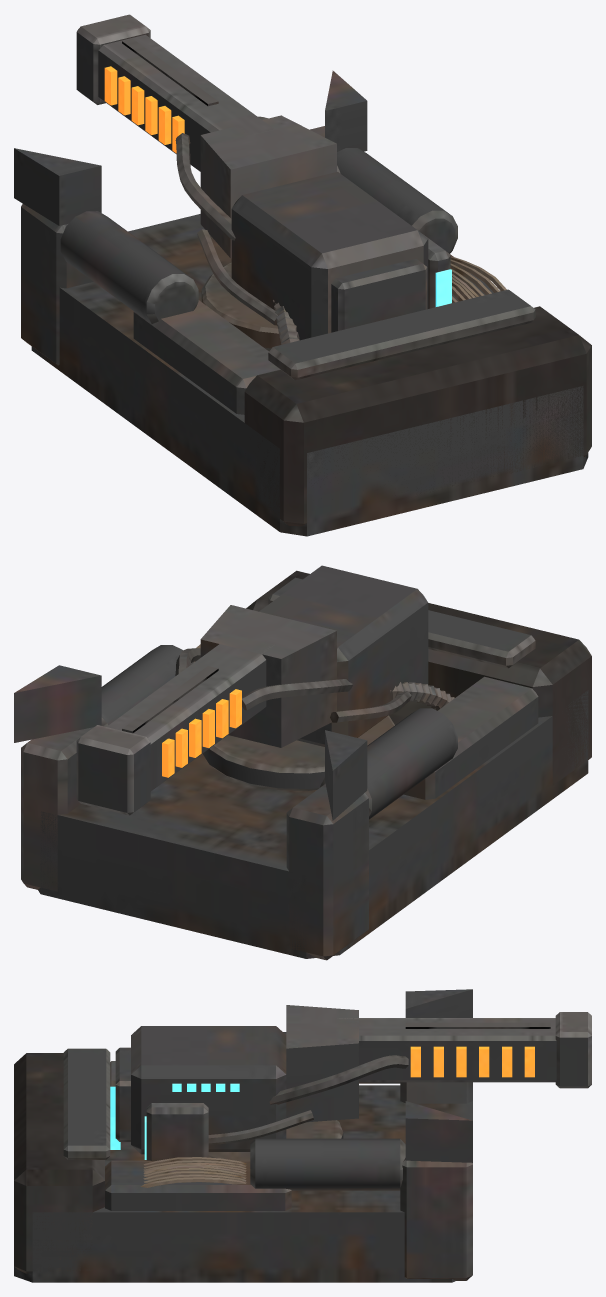
Rendered from railgun-turret.glb.
3 views of the same model, one above another, from view 1: azimuth 30°, elevation 25°; view 2: azimuth 150°, elevation 25°; view 3: azimuth 270°, elevation 25° (orthographic). The views are drawn at different scales.
Parts seen in each view (by area): view 1: body, anim_turret_head; view 2: body, anim_turret_head; view 3: body, anim_turret_head.
Part boxes in pixels (x1,y1,x2,y2): body: [14, 70, 591, 536]; anim_turret_head: [76, 14, 428, 340]; body: [14, 570, 591, 960]; anim_turret_head: [76, 565, 428, 815]; body: [14, 989, 472, 1282]; anim_turret_head: [115, 1005, 591, 1154].
Bounding box in the file's own units: 3 × 2.1 × 5.58.
3 materials, 3 textured.
